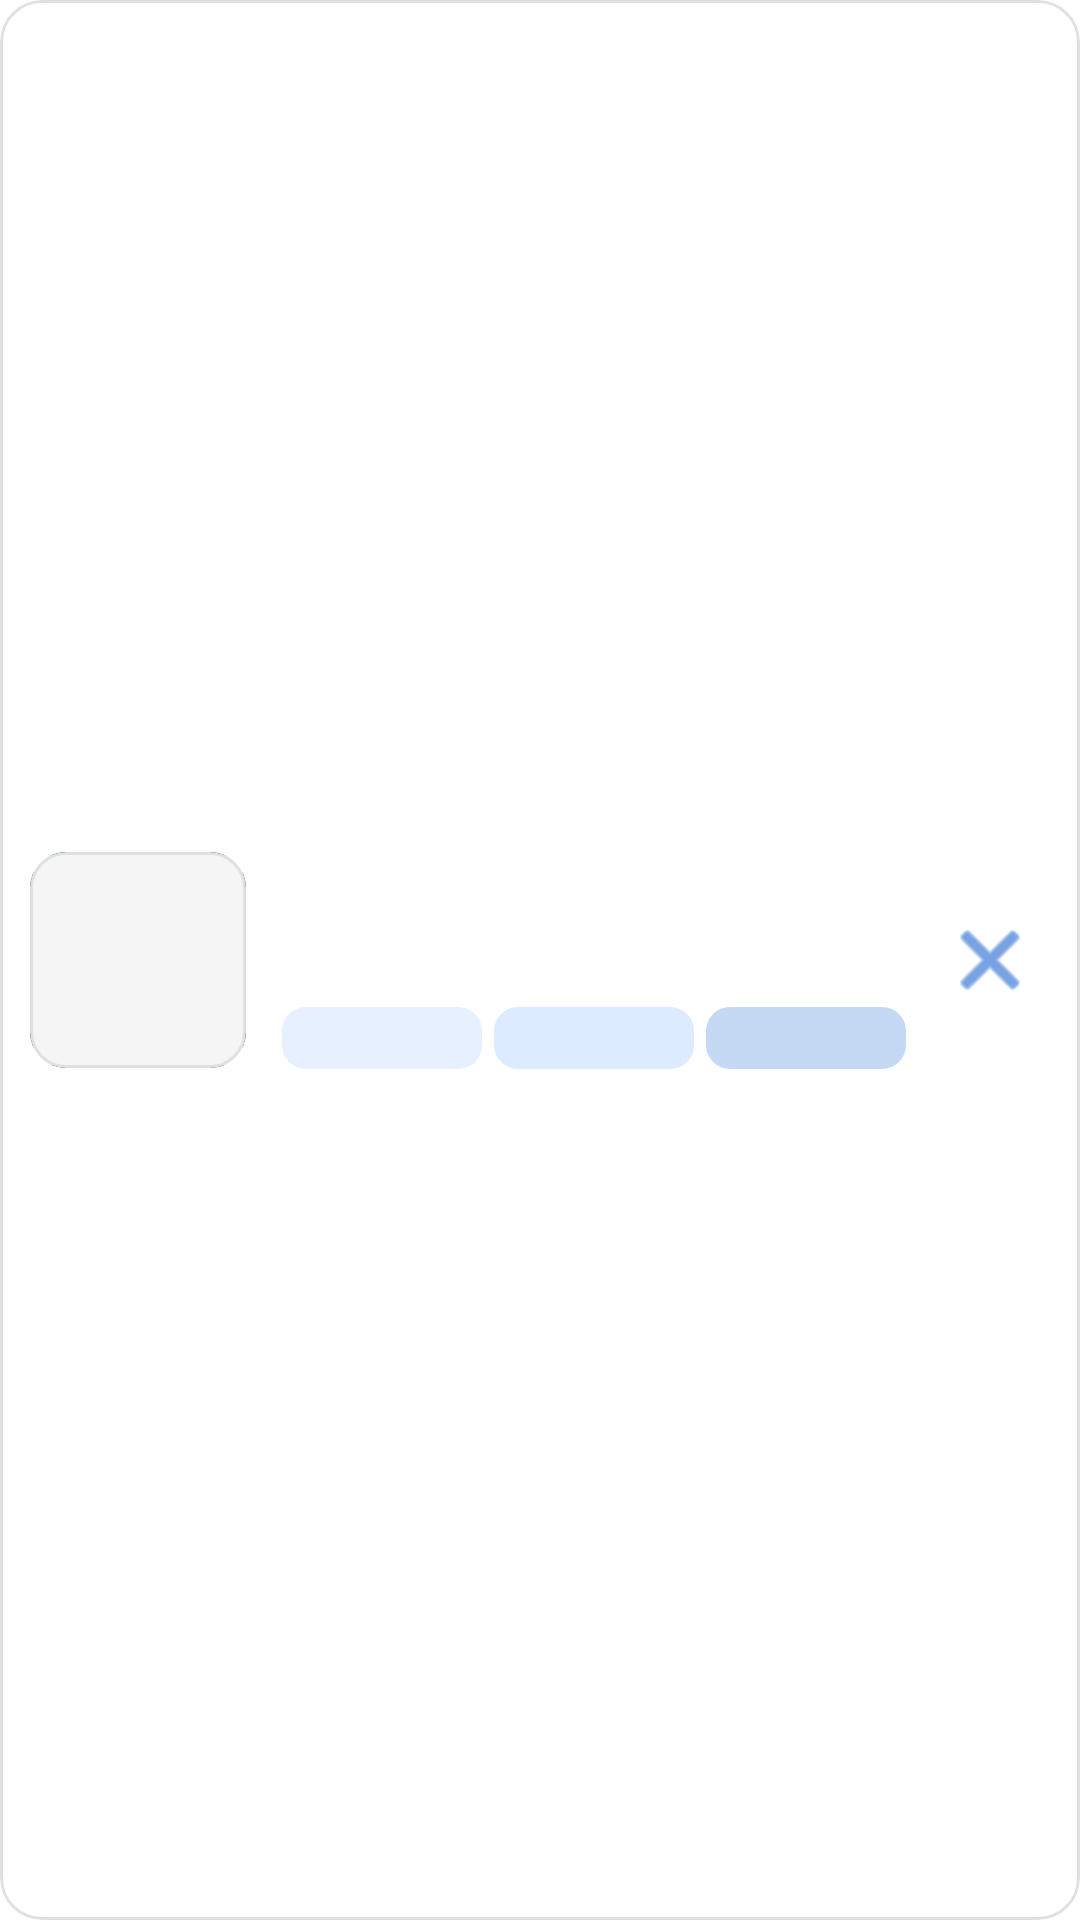

Locate icon controls on the screen. Image size 1080 × 1920, boxes as (x1, y1, x2, y2).
Eliminar plato: (960, 930, 1020, 990)
